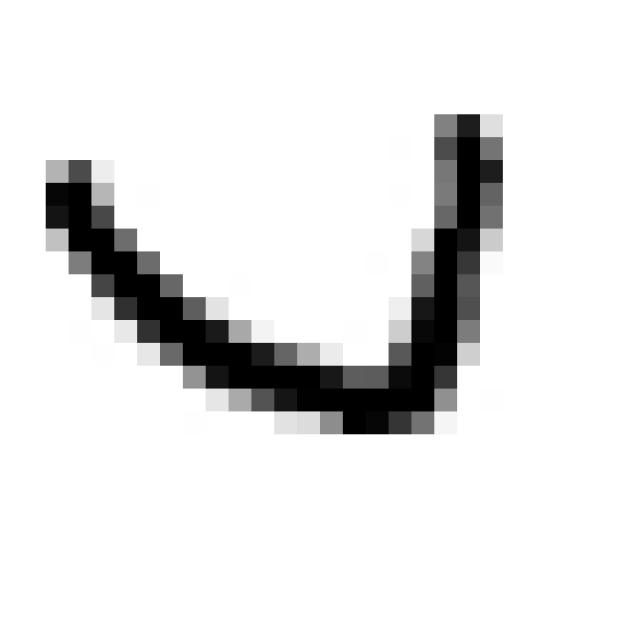7 -seven-: (25, 98, 522, 448)
